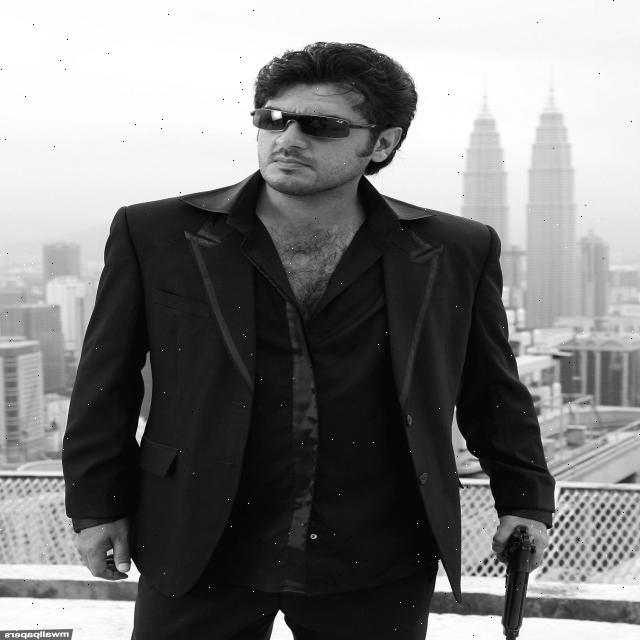gun: (476, 515, 562, 640)
